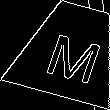M_N: (37, 20, 103, 82)
